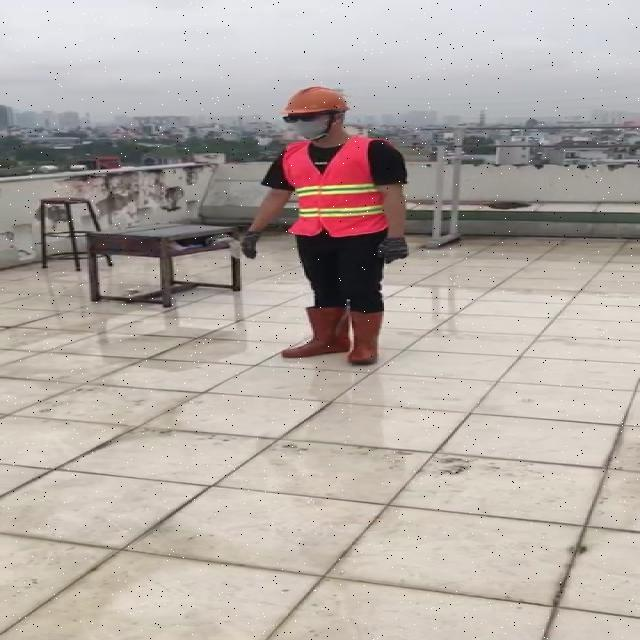Hard_hat: (278, 84, 357, 114)
Vest: (288, 132, 386, 238)
